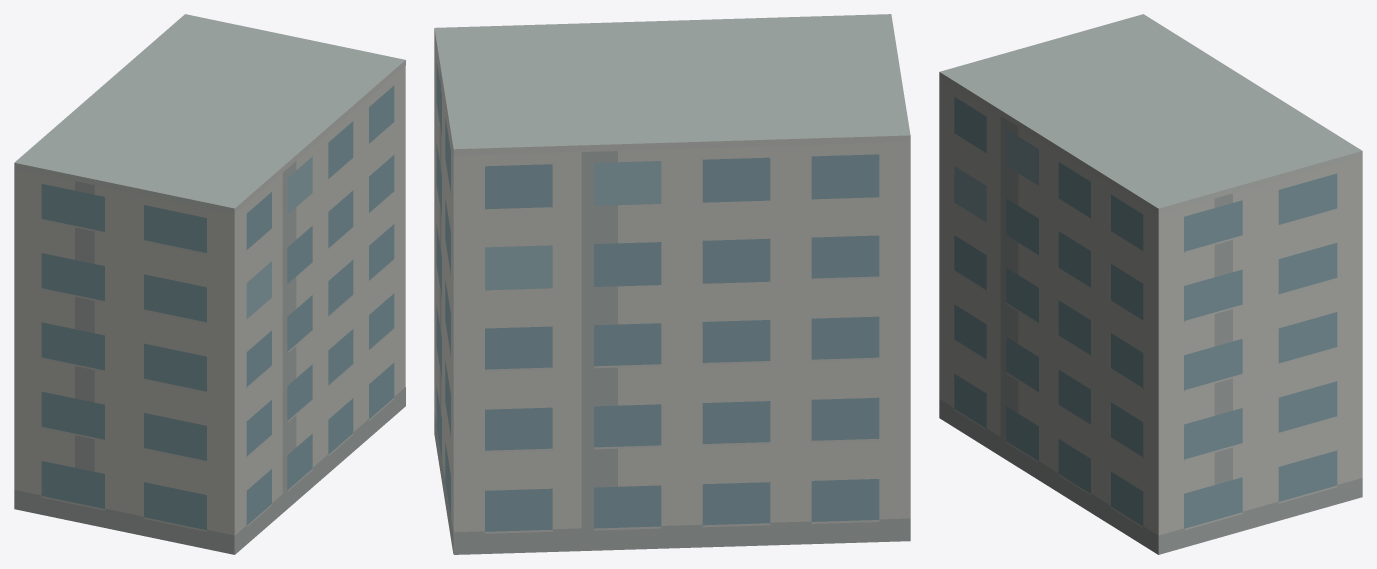
The model's file is survey-upis-32886870.glb.
3 views of the same model, side by side, from view 1: azimuth 30°, elevation 25°; view 2: azimuth 150°, elevation 25°; view 3: azimuth 270°, elevation 25° (orthographic). The views are drawn at different scales.
Parts seen in each view (by area): view 1: survey-upis-32886870.tmp; view 2: survey-upis-32886870.tmp; view 3: survey-upis-32886870.tmp.
Part boxes in pixels (x1=…): survey-upis-32886870.tmp: x1=14, y1=14, x2=405, y2=554; survey-upis-32886870.tmp: x1=434, y1=14, x2=910, y2=554; survey-upis-32886870.tmp: x1=939, y1=14, x2=1362, y2=554.
Bounding box in the file's own units: 17.67 × 14.65 × 16.24.
